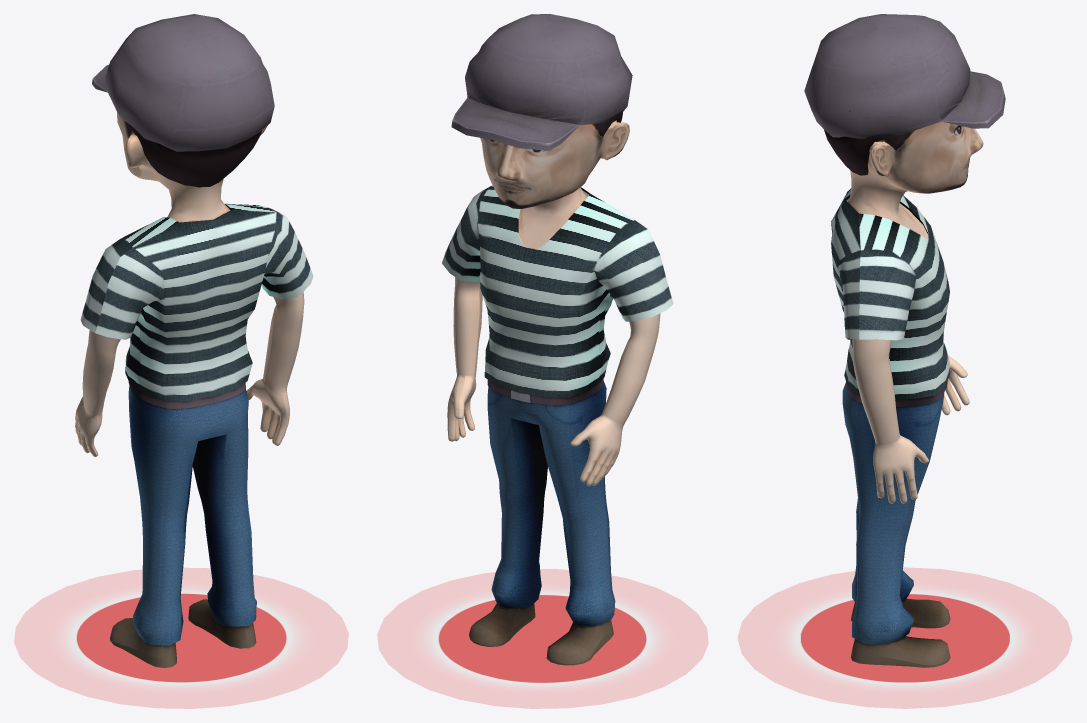
Rendered from guanzhurenyuan.8ea92ca.glb.
3 renders of one model, left to right at view 1: azimuth 30°, elevation 25°; view 2: azimuth 150°, elevation 25°; view 3: azimuth 270°, elevation 25°, orthographic.
Visible parts, largest first — view 1: 关注人员001, 红色图标002; view 2: 关注人员001, 红色图标002; view 3: 关注人员001, 红色图标002.
Boxes of the visible parts, <box> form: 关注人员001: <box>75,14,313,667</box>; 红色图标002: <box>14,568,348,708</box>; 关注人员001: <box>442,14,673,665</box>; 红色图标002: <box>377,569,708,708</box>; 关注人员001: <box>804,14,1005,667</box>; 红色图标002: <box>738,567,1071,708</box>.
Bounding box in the file's own units: 1 × 2.03 × 1.
Materials: 3 (3 with a texture image).
